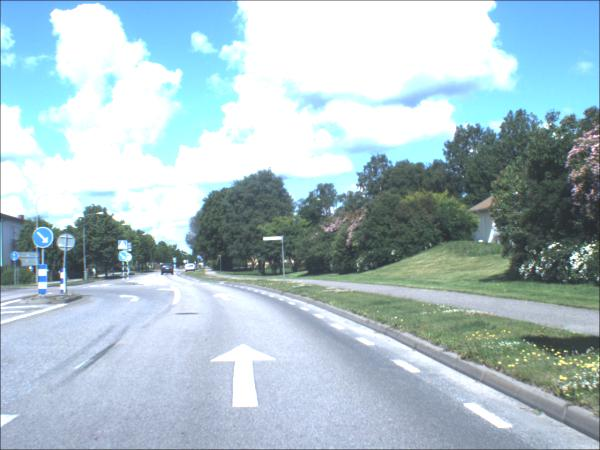PASS_RIGHT_SIDE: (35, 228, 55, 250), (120, 252, 129, 263)
PEDESTRIAN_CROSSING: (120, 242, 130, 251)
